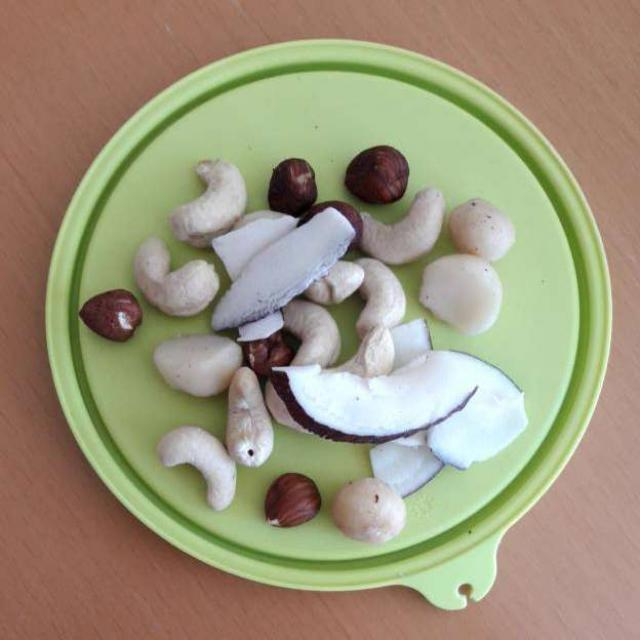coconut: (198, 203, 514, 491)
mixed-nuts: (95, 154, 530, 539)
